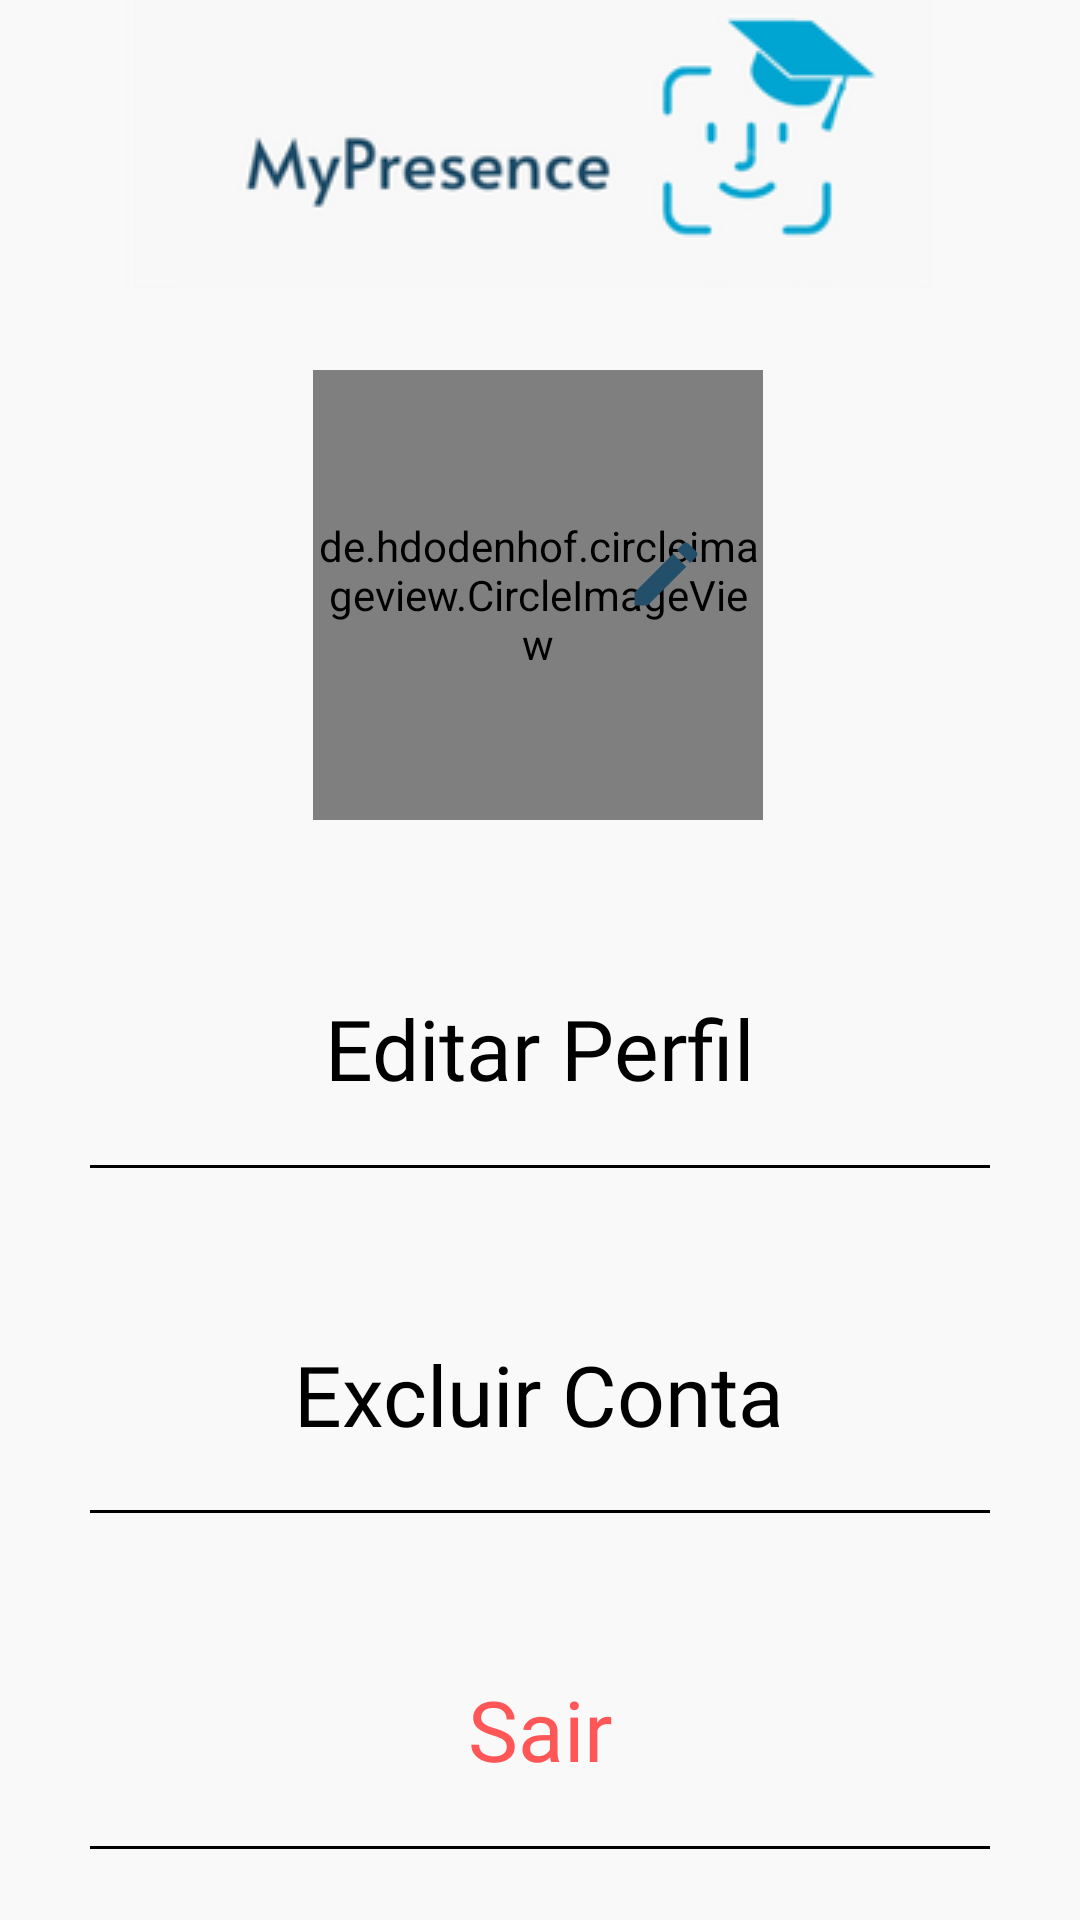

Icon bounding boxes for this 1080*1920 phone screenshot, format (x1,y1,x2,y2):
edit: (624,532,698,616)
